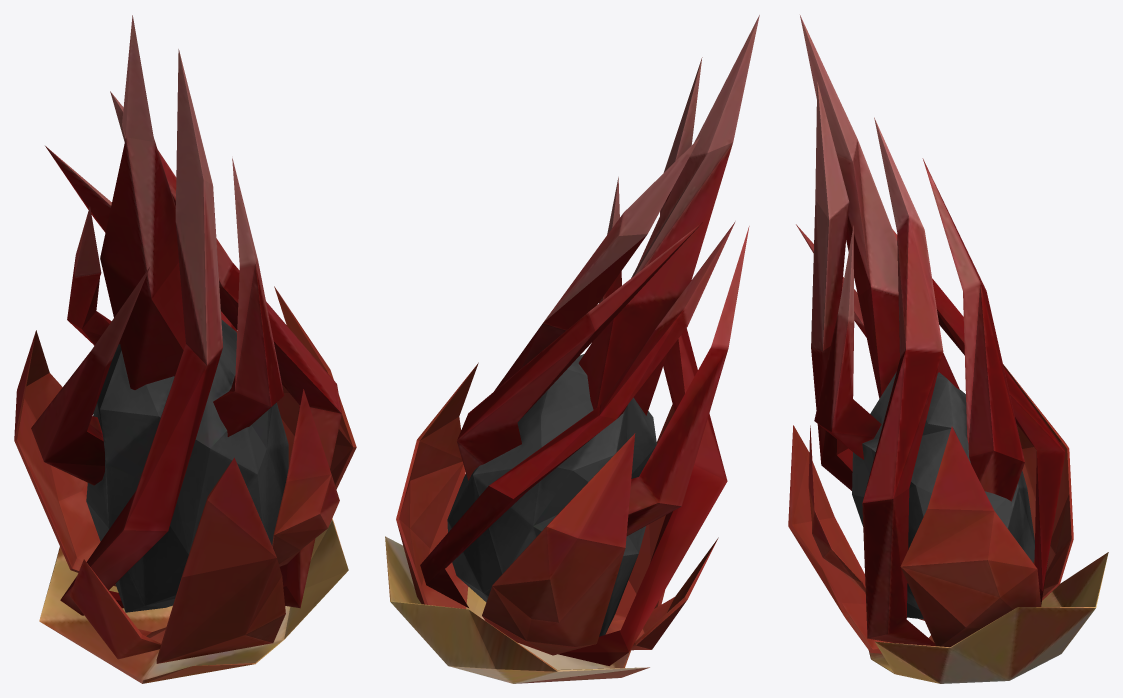
File: pp-comet.glb
3 renders of one model, left to right at view 1: azimuth 30°, elevation 25°; view 2: azimuth 150°, elevation 25°; view 3: azimuth 270°, elevation 25°, orthographic. The views are drawn at different scales.
Parts seen in each view (by area): view 1: normalized; view 2: normalized; view 3: normalized.
Part boxes in pixels (left/top/right/bottom): normalized: left=14, top=15, right=356, bottom=683; normalized: left=385, top=15, right=759, bottom=683; normalized: left=788, top=15, right=1108, bottom=683.
Size of the model in its own units: 0.7426 by 1.67 by 0.8103.
1 material, 1 textured.
